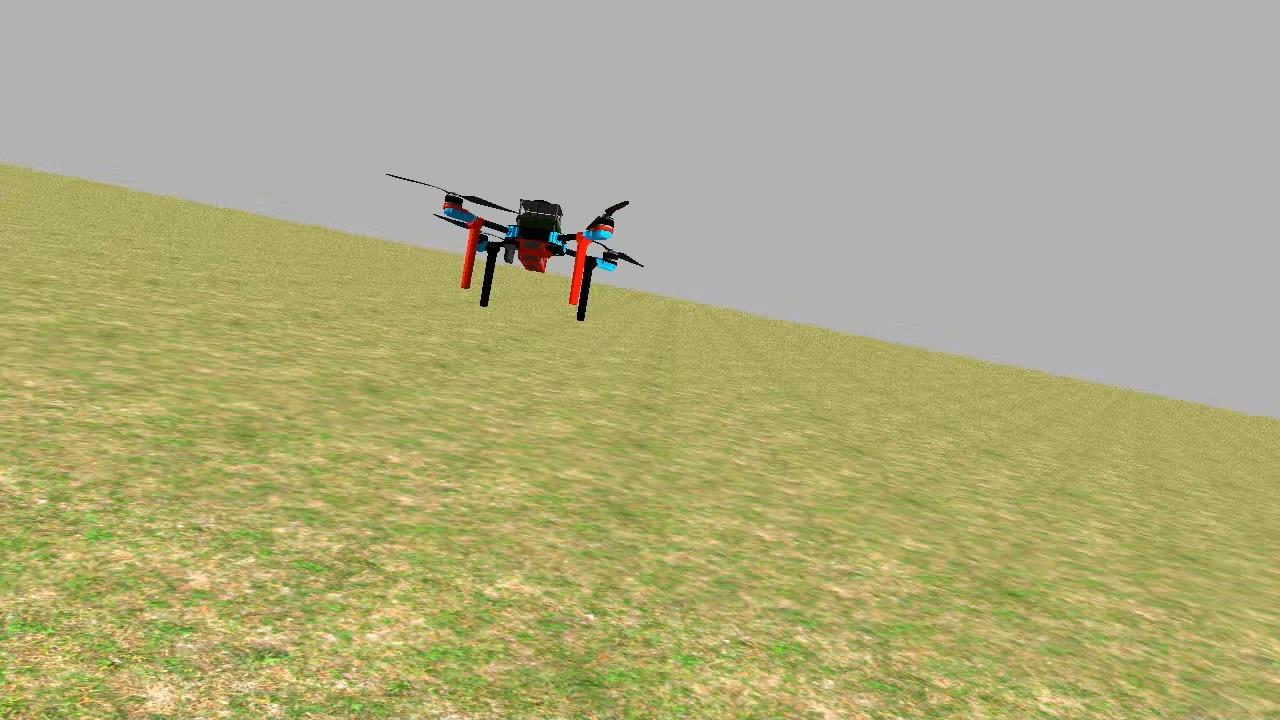UAV: (422, 185, 630, 331)
